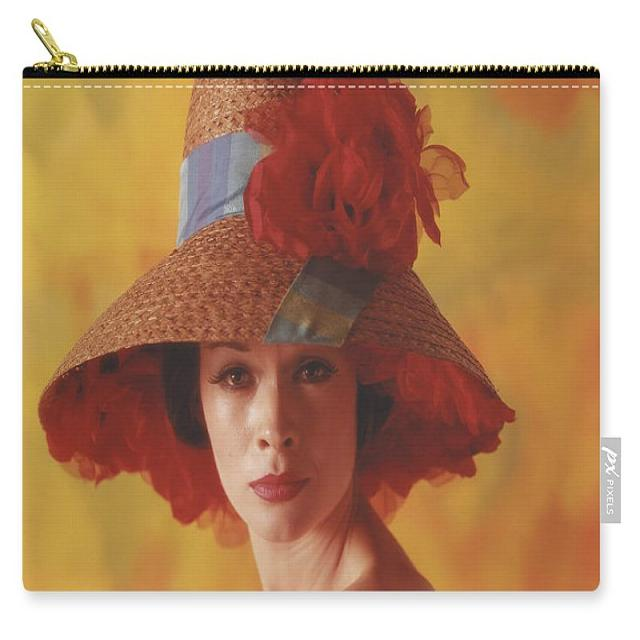hat: (36, 70, 513, 542)
